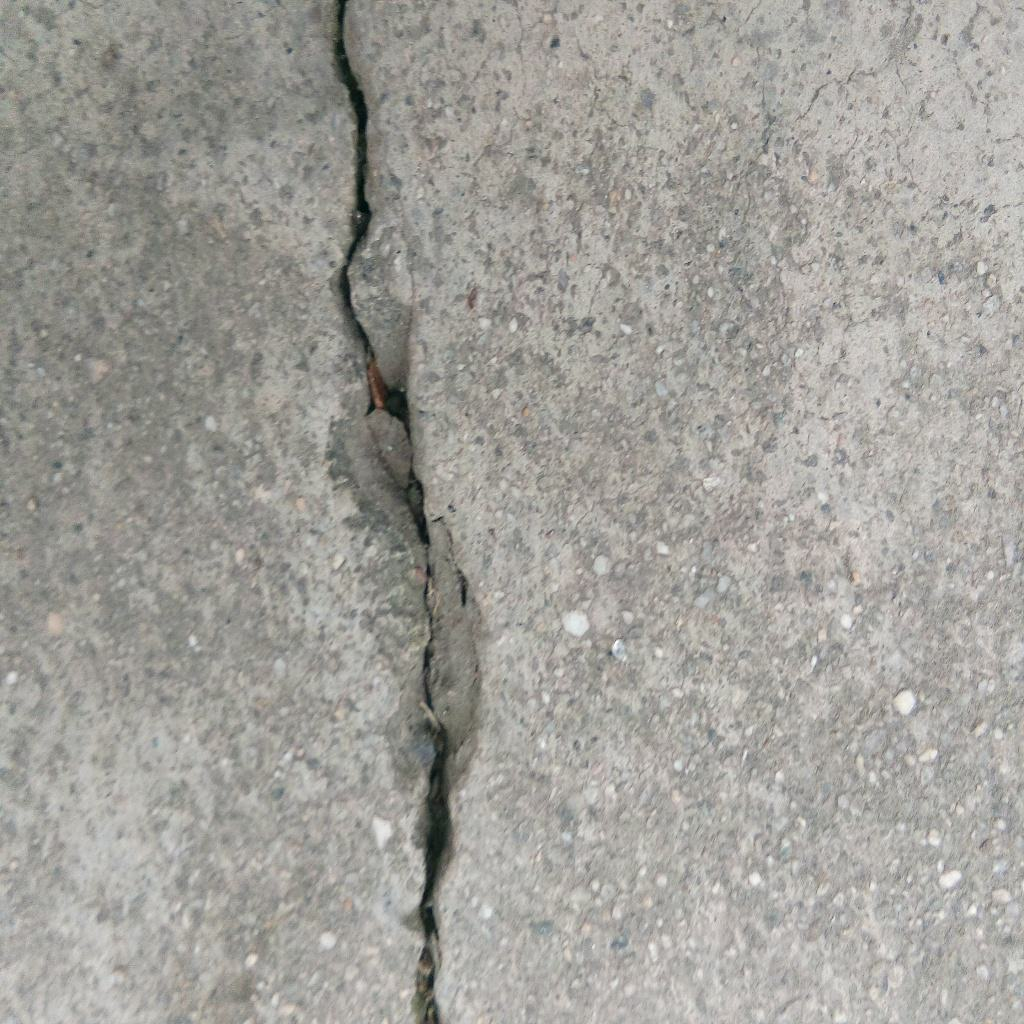Crack: (325, 1, 480, 1024)
